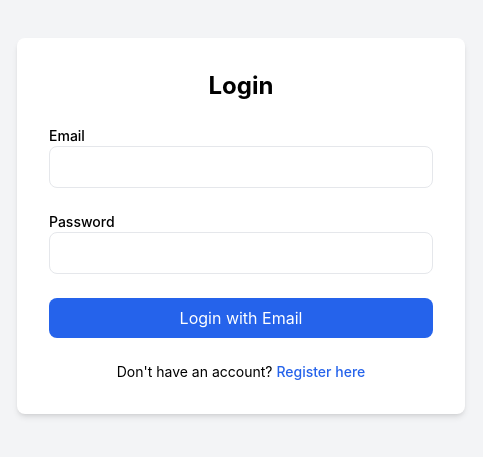
it: Login Component › displays an error message on invalid credentials
The image size is (483, 457).
Type "test@example.com" into the field labelled "Email".
click(241, 167); type("test@example.com")  # box [49,146,433,188]
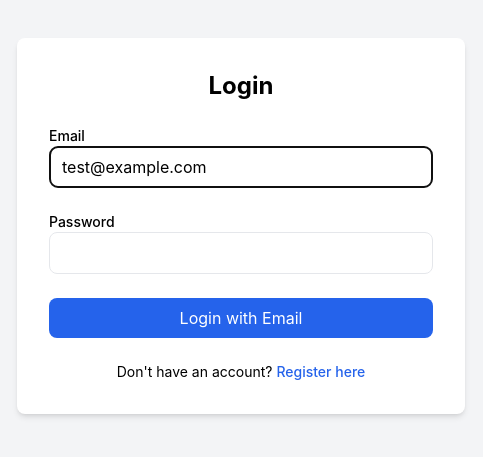
Type "wrongpassword" into the password field labelled "Password".
click(241, 253); type("wrongpassword")  # box [49,232,433,274]
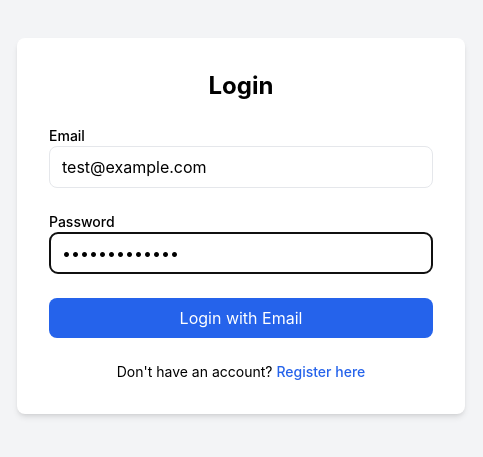
Click the button "Login with Email".
click(241, 318)  # box [49,298,433,338]
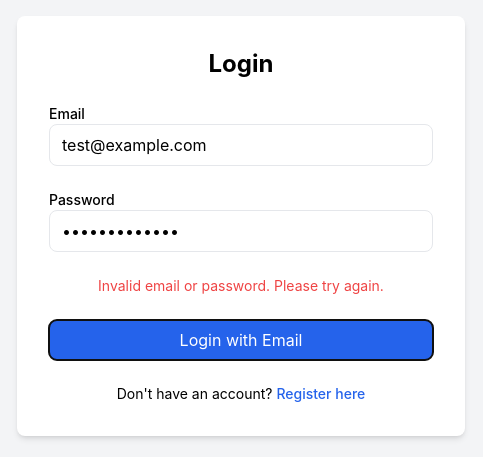
Expected: the text "Invalid email or password. Please try again." is shown, [98,277,384,294]
